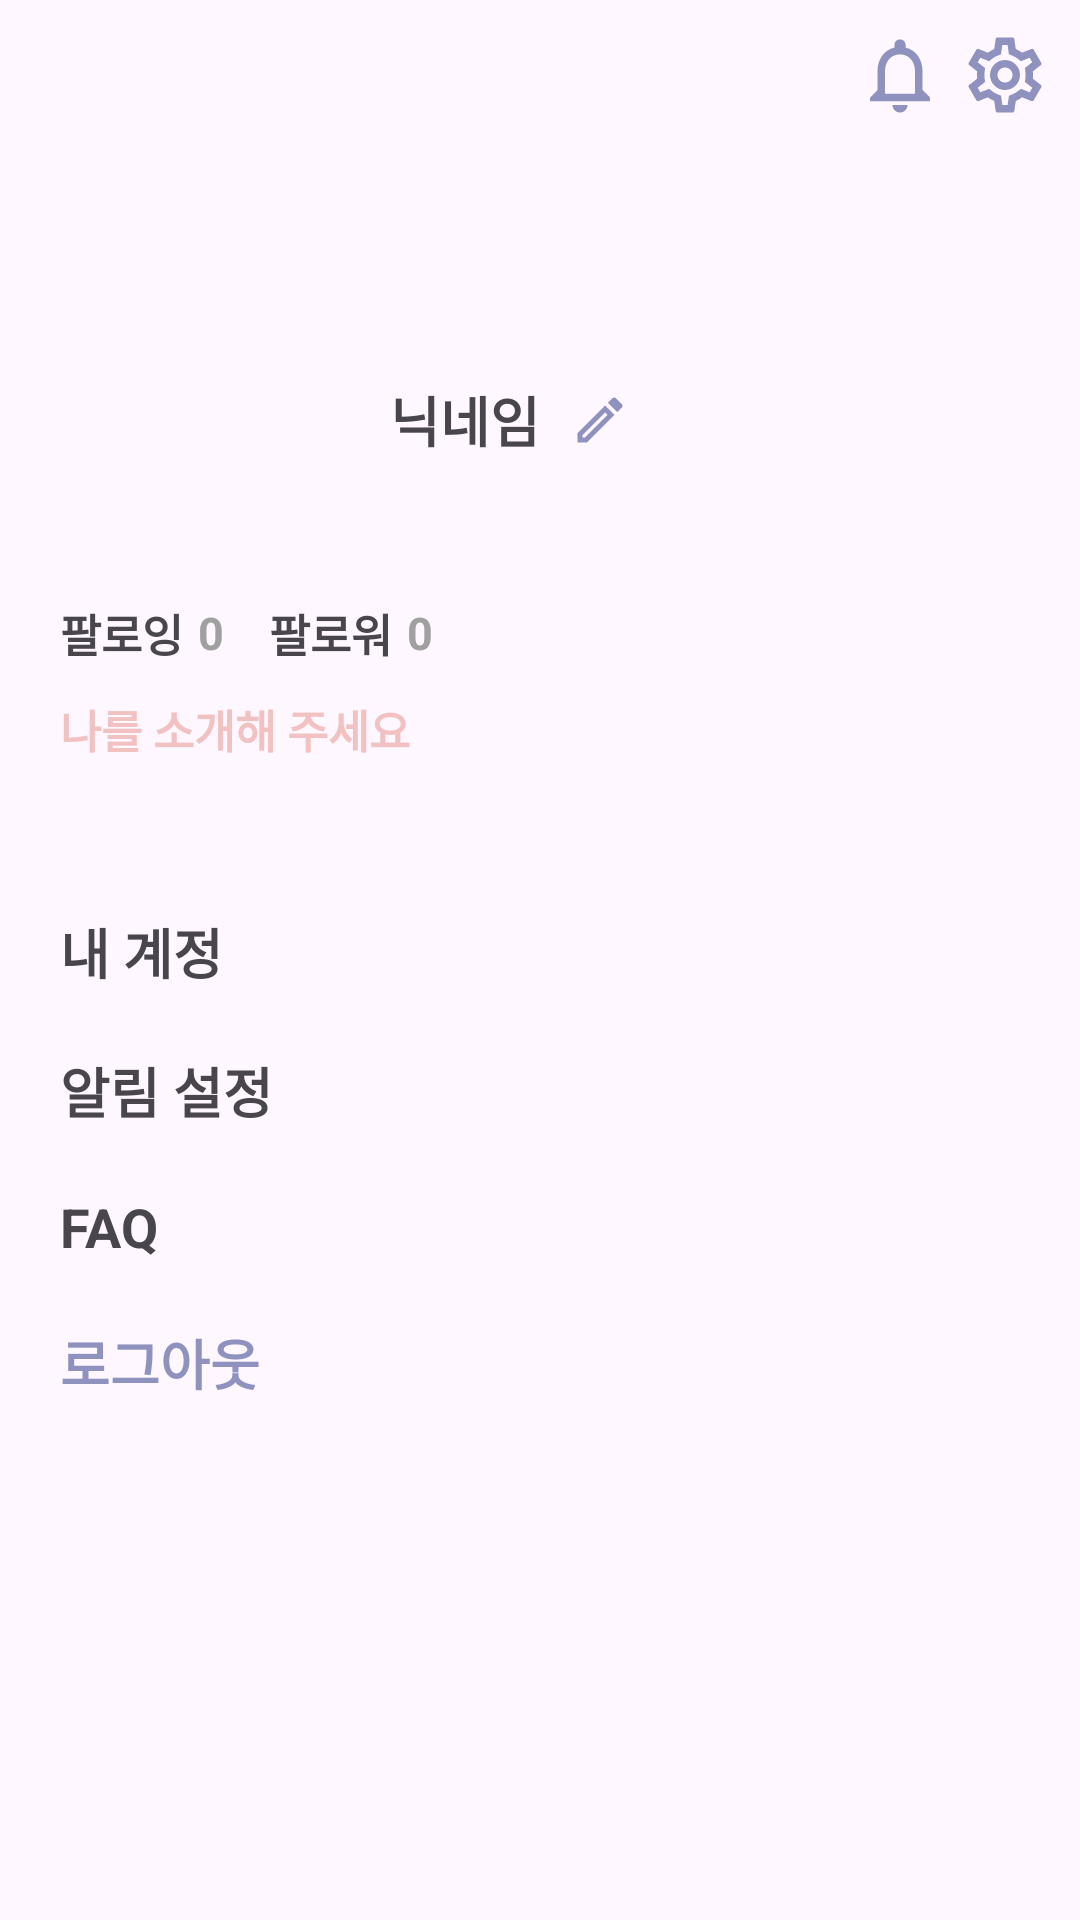

Icons on this 1080 × 1920 Android screen, each with its box as Rect(x1, y1, x2, y2):
bell: Rect(870, 39, 930, 113)
settings: Rect(968, 37, 1042, 113)
writing: Rect(577, 397, 623, 443)
